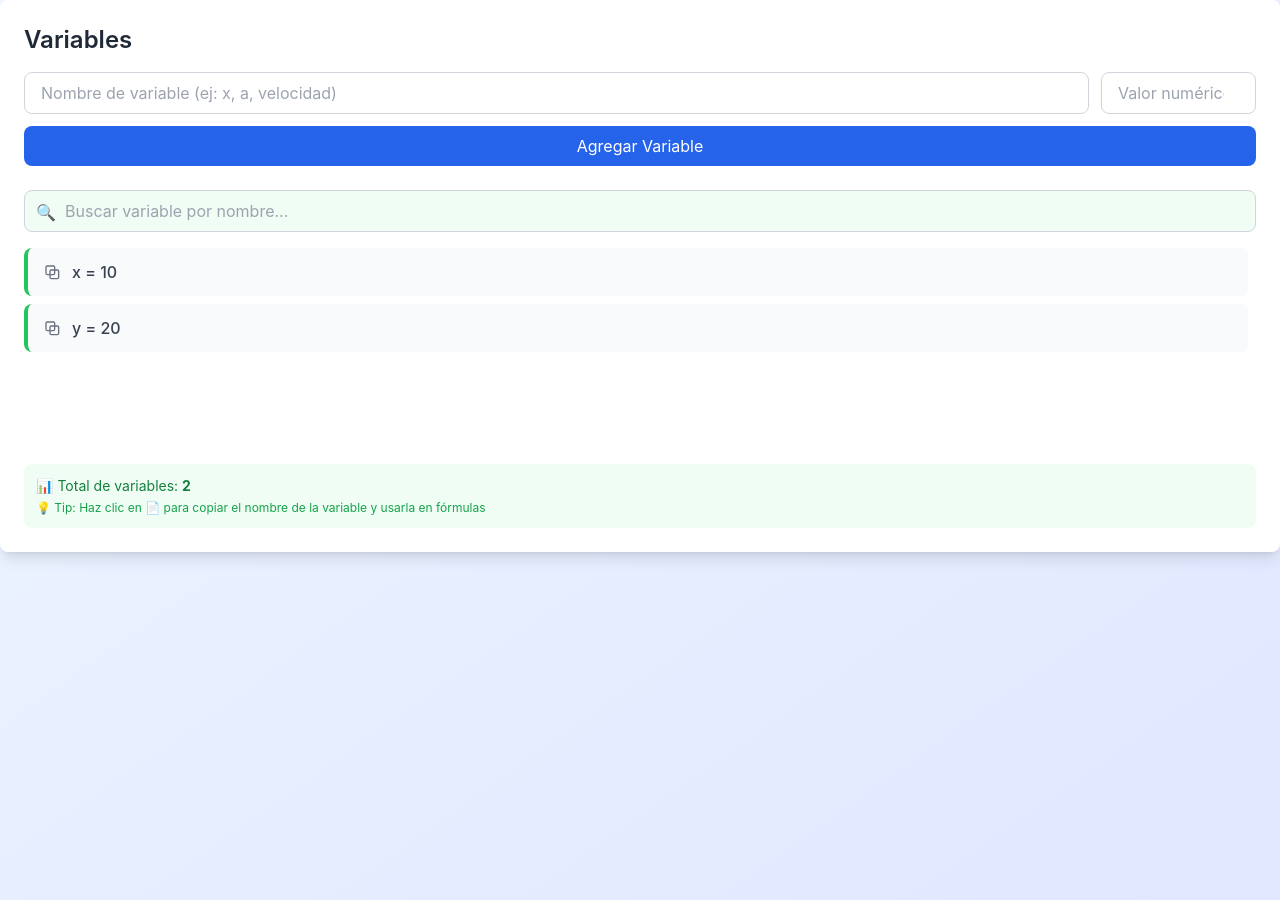
Test: permite limpiar la búsqueda de variables
Type "y" into the field with placeholder "Buscar variable por nombre..." at (640, 211), box [24,190,1256,232]
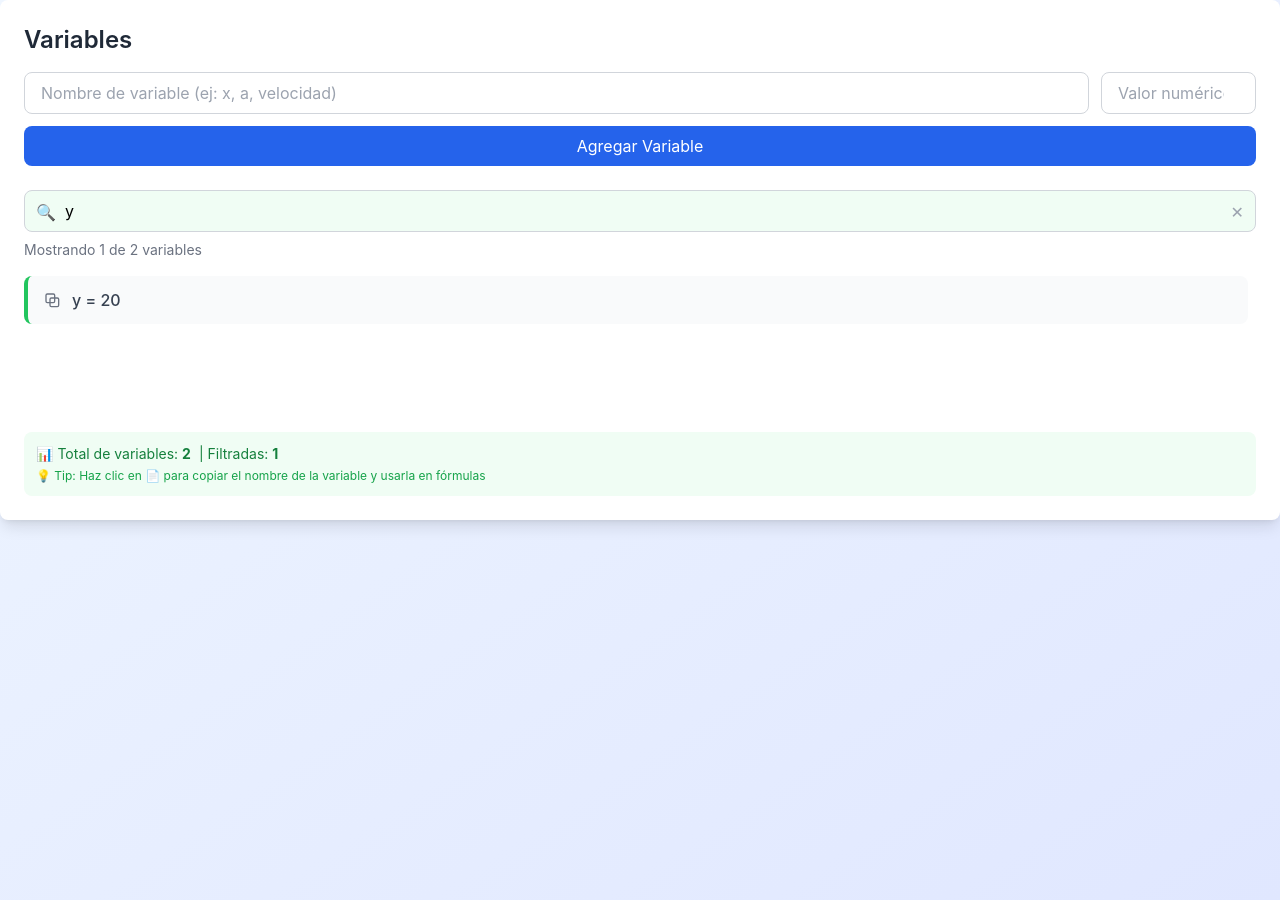
Expected: the text "y = 20" is shown, [72,288,121,312]
Click the button titled "Limpiar búsqueda" at (1237, 212), box [1231,200,1244,224]
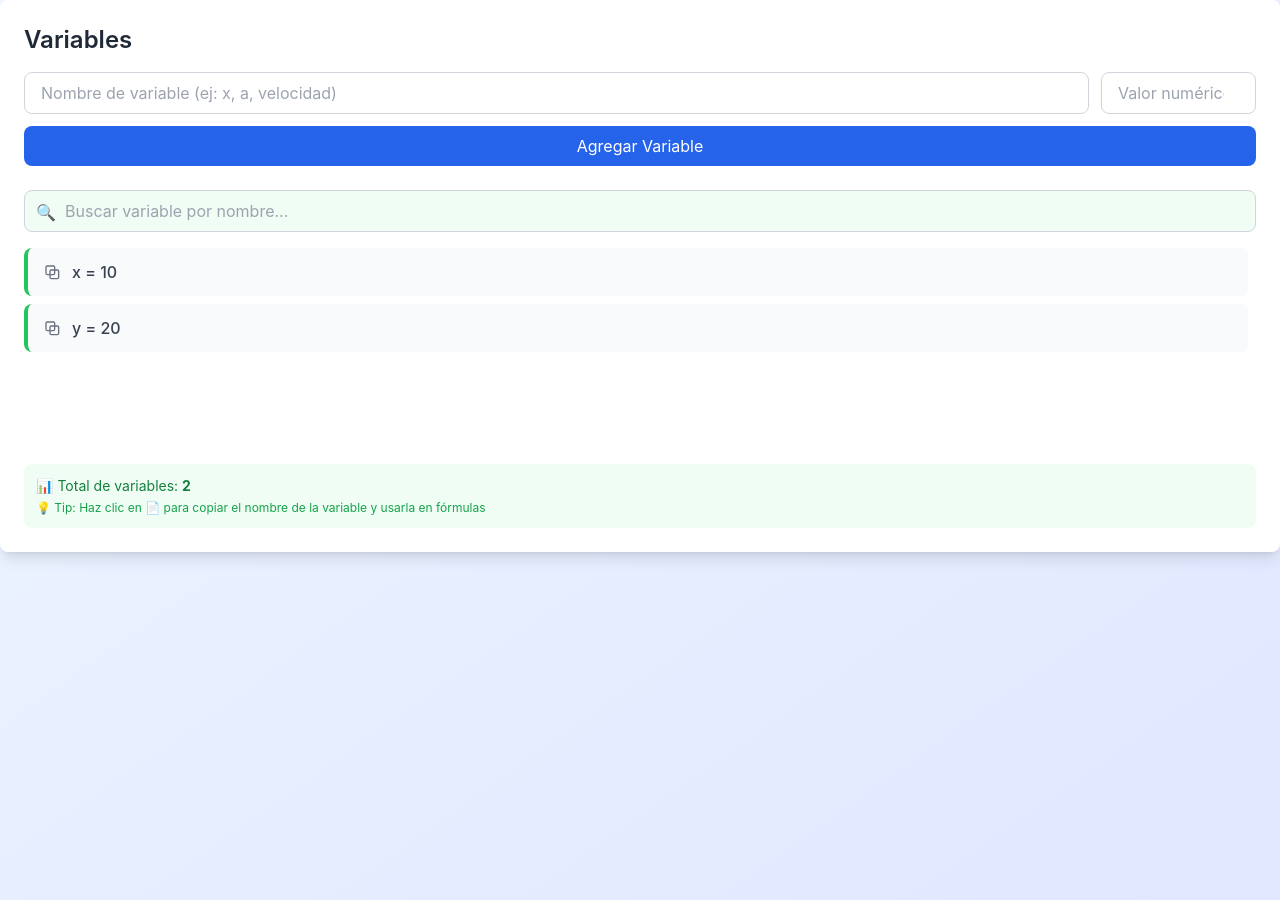
Expected: the text "y = 20" is shown, [72,316,121,340]
Expected: the text "x = 10" is shown, [72,260,117,284]
